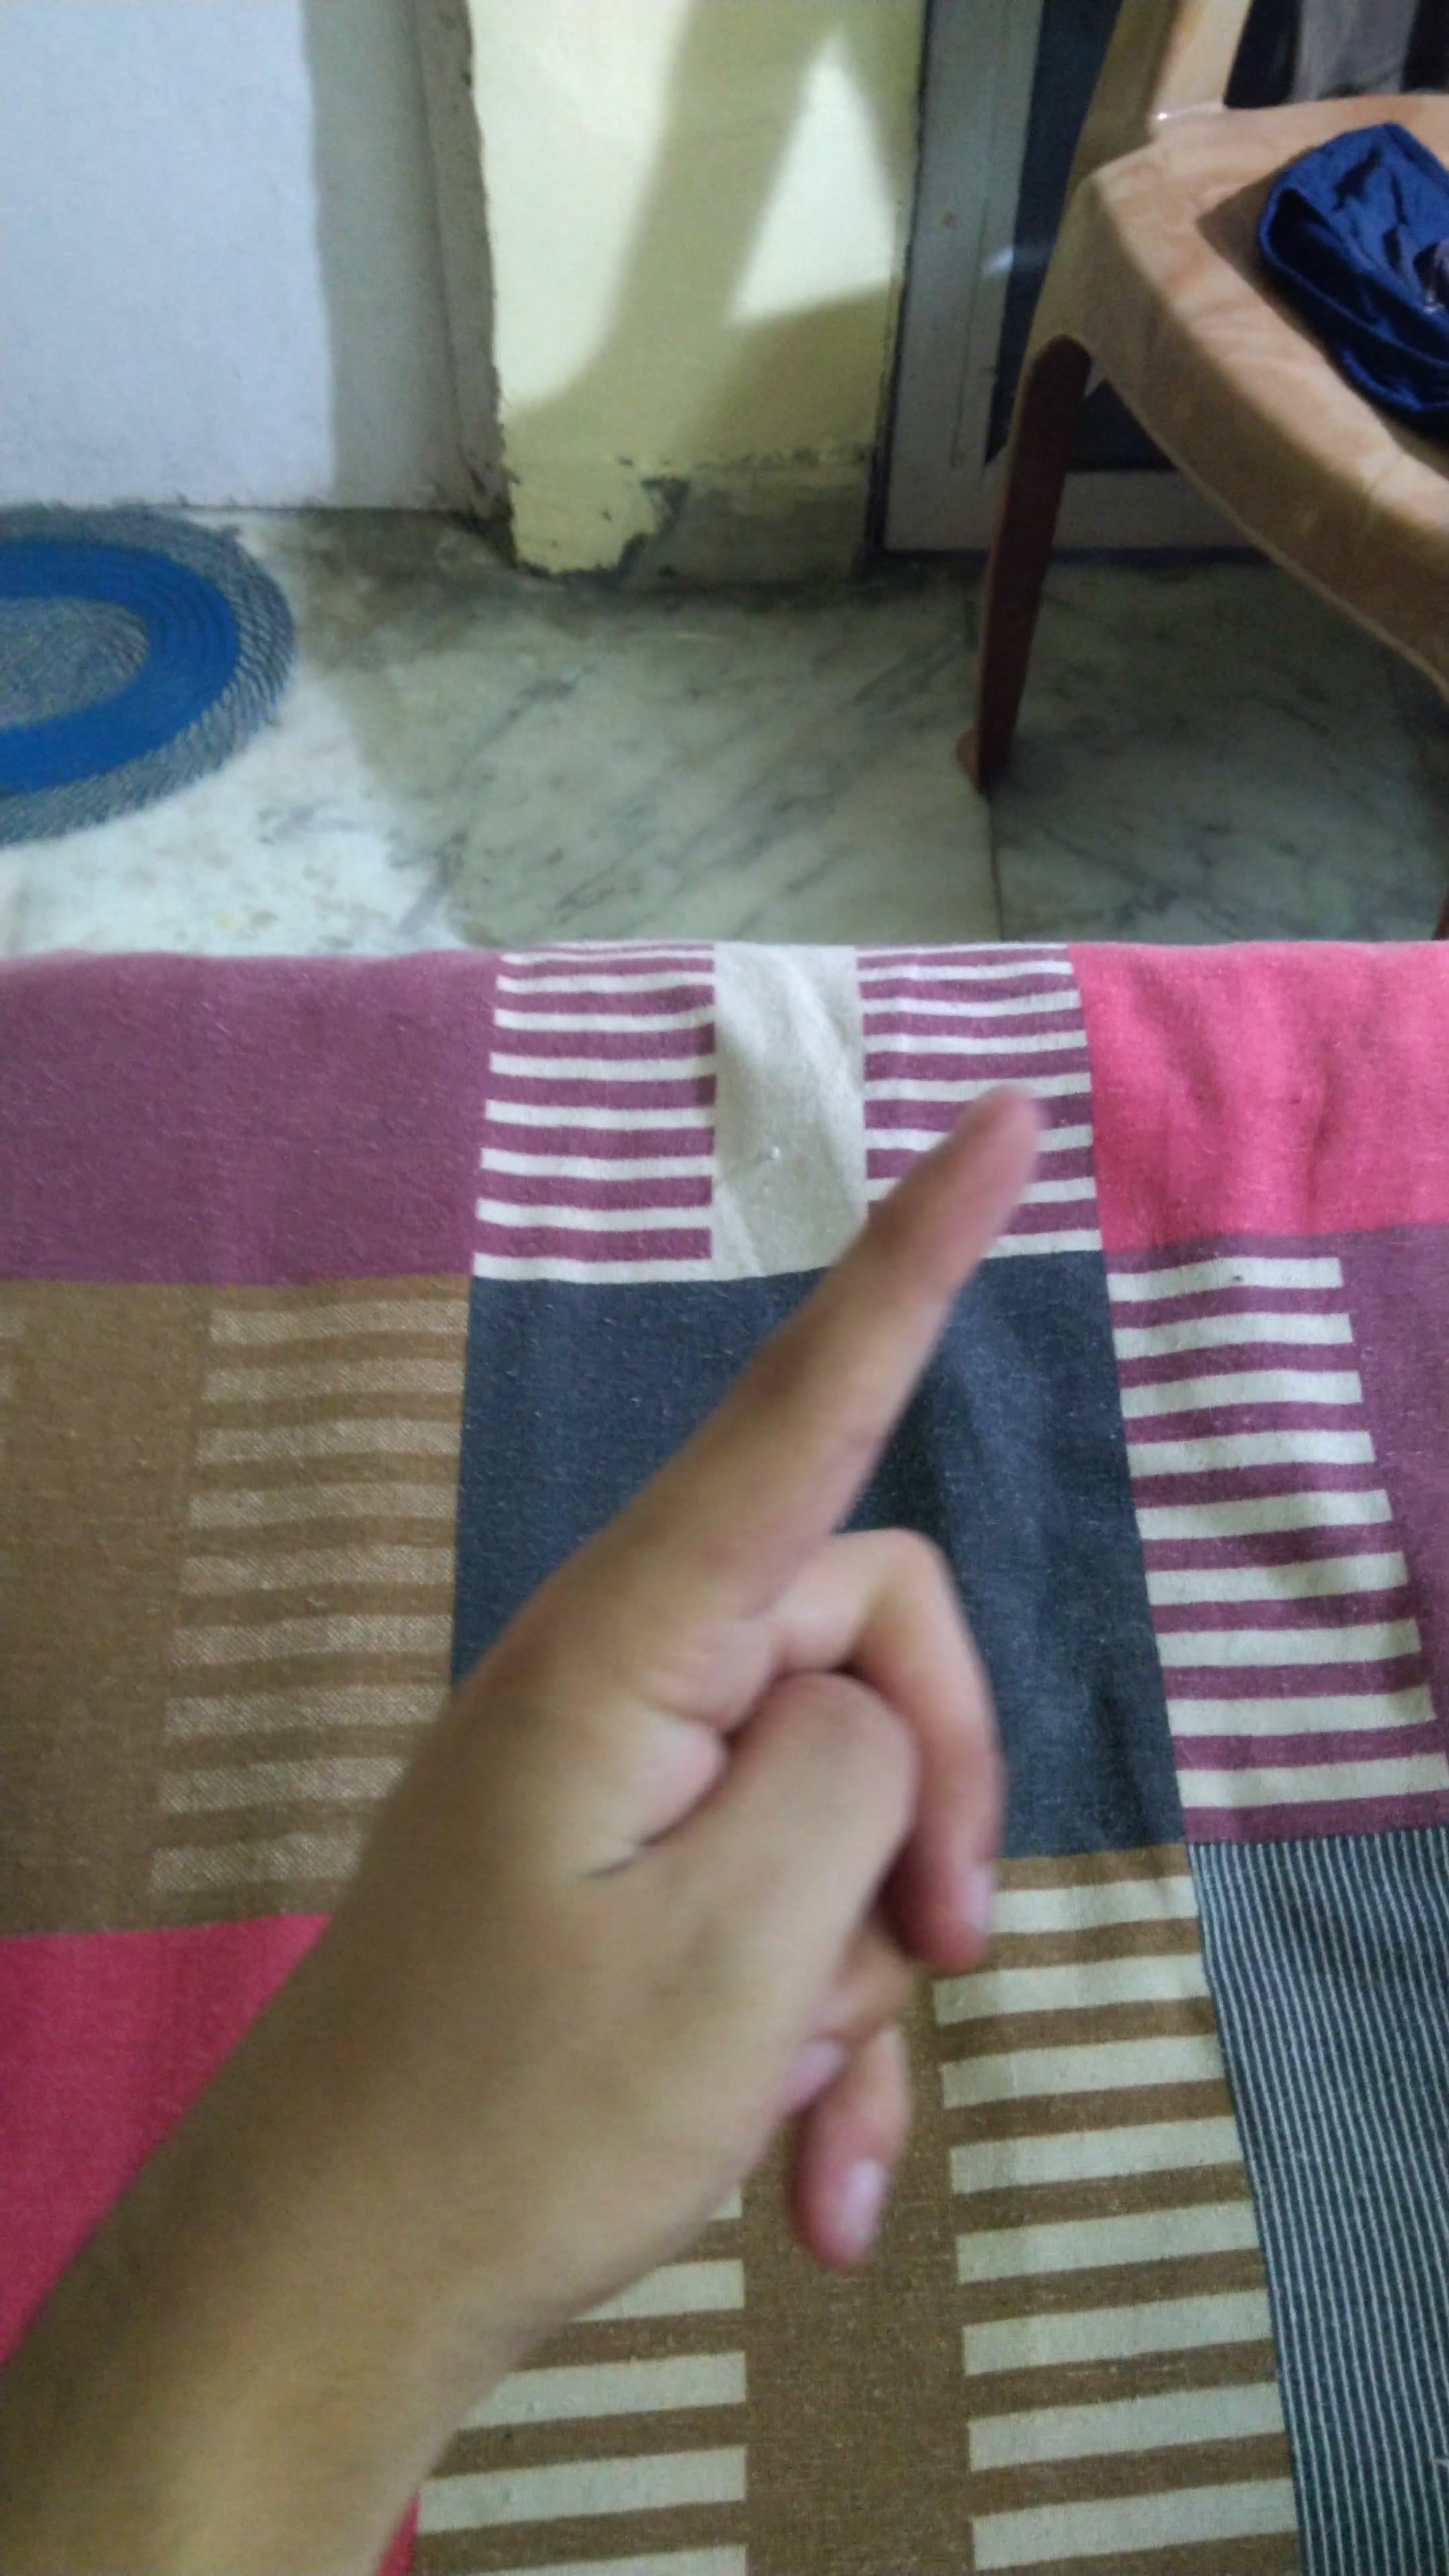hand: (287, 1053, 1092, 2348)
